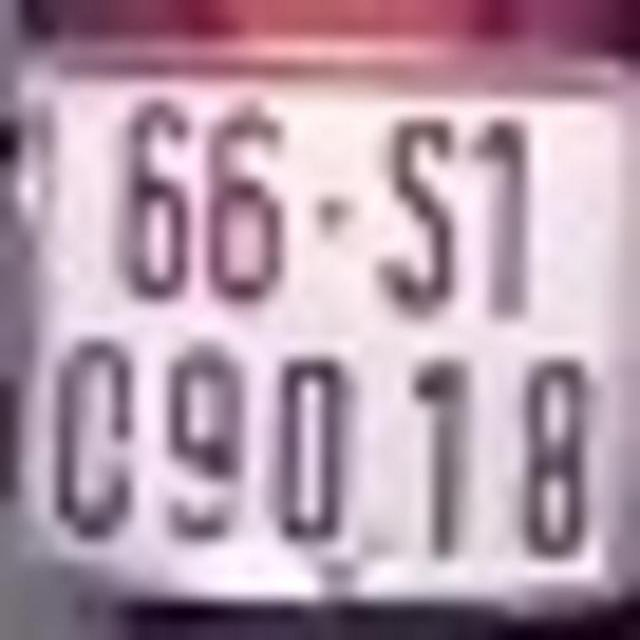0: (46, 331, 142, 548), (265, 344, 346, 546)
1: (411, 346, 475, 561), (472, 121, 540, 321)
6: (208, 101, 295, 302), (121, 94, 196, 306)
8: (518, 344, 596, 556)
9: (160, 334, 243, 546)
S: (380, 120, 460, 313)
